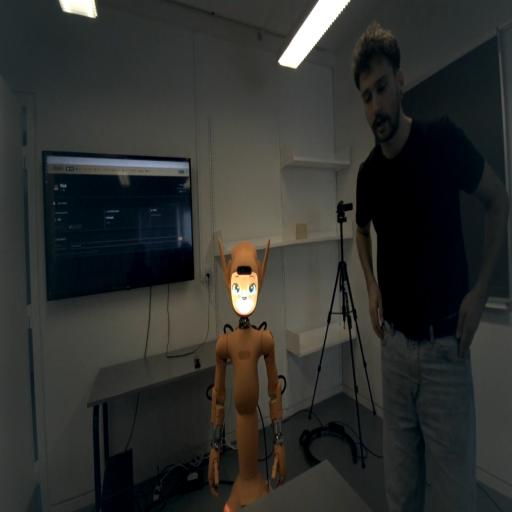Robot: (220, 239, 269, 317)
TV: (42, 150, 194, 302)
